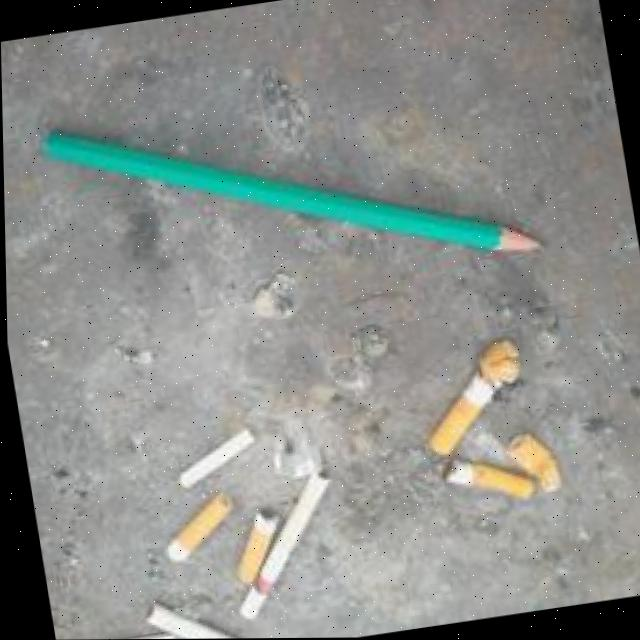pencil: (32, 60, 542, 322)
